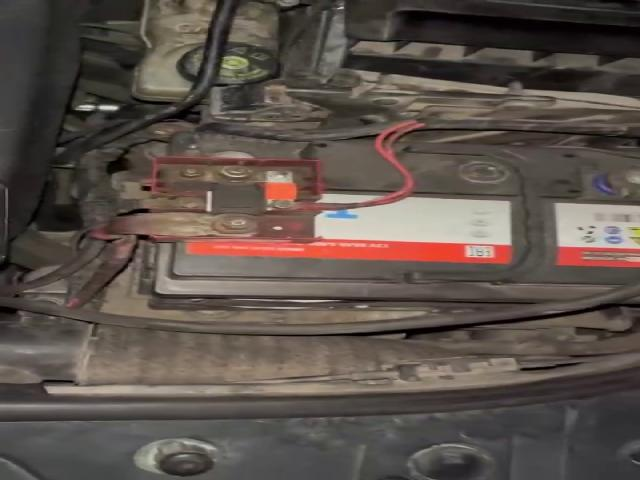accumulator: (101, 130, 640, 301)
